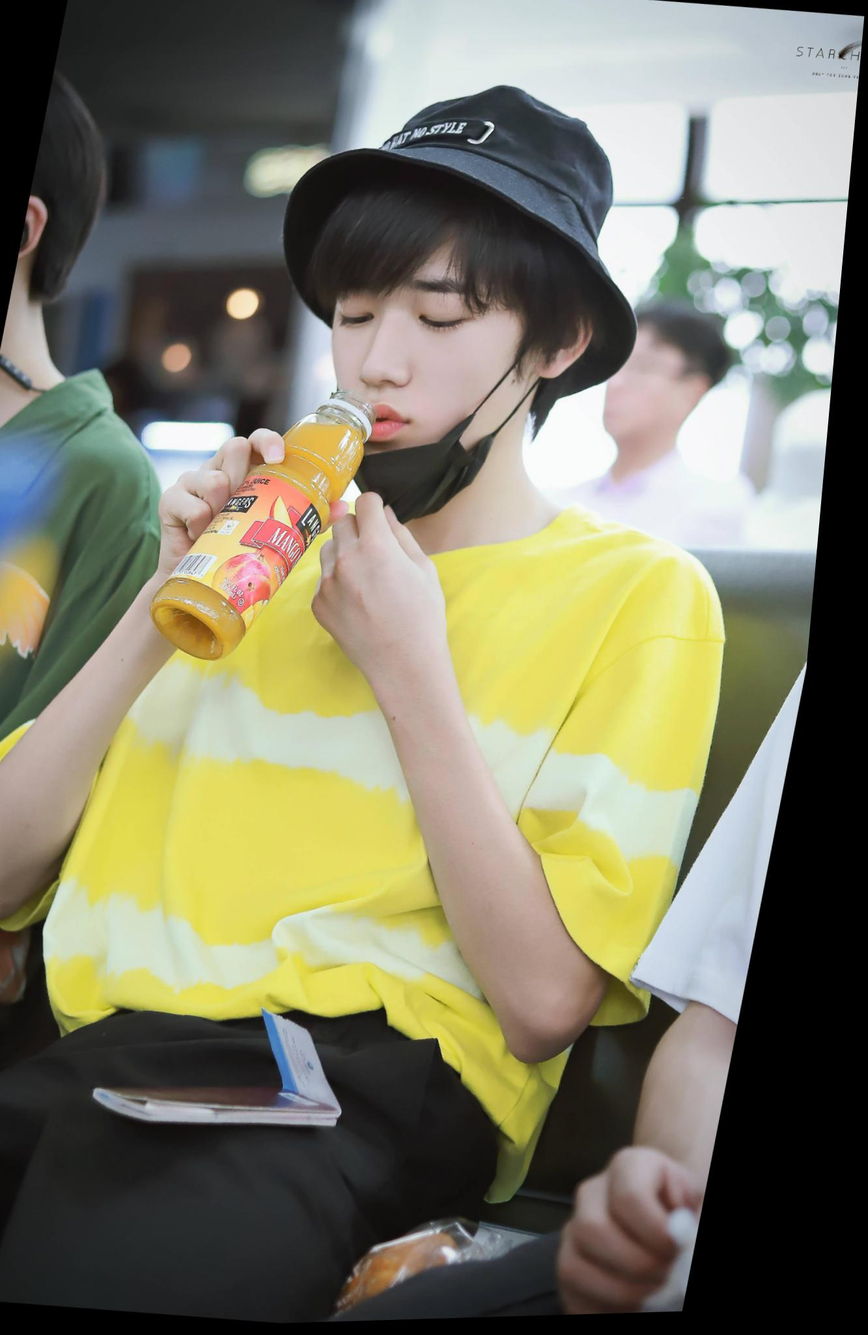WRONG: (302, 239, 557, 542)
